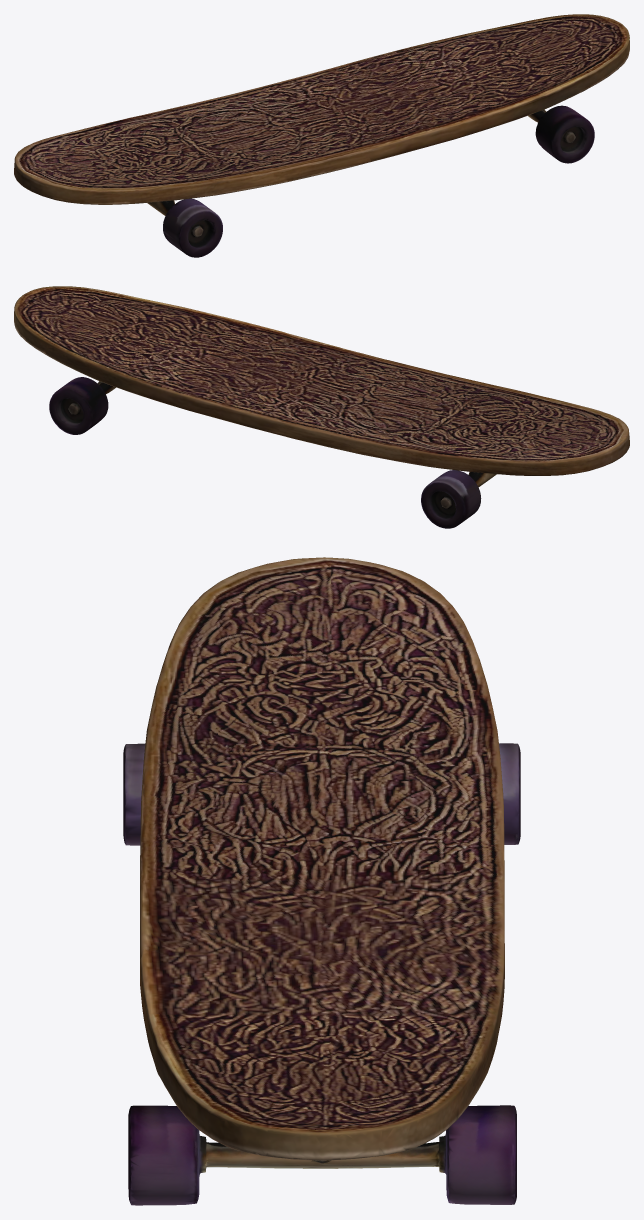
The model's file is CCG_Deck_HowlCouture_web.glb.
3 views of the same model, one above another, from view 1: azimuth 30°, elevation 25°; view 2: azimuth 150°, elevation 25°; view 3: azimuth 270°, elevation 25° (orthographic). The views are drawn at different scales.
Visible parts, largest first — view 1: SM_Deck_HowlCouture; view 2: SM_Deck_HowlCouture; view 3: SM_Deck_HowlCouture.
Boxes of the visible parts, x1=… form: SM_Deck_HowlCouture: x1=14, y1=14, x2=629, y2=257; SM_Deck_HowlCouture: x1=14, y1=286, x2=629, y2=528; SM_Deck_HowlCouture: x1=123, y1=557, x2=520, y2=1205.
Size of the model in its own units: 0.82 by 0.1081 by 0.2355.
1 material, 1 textured.
